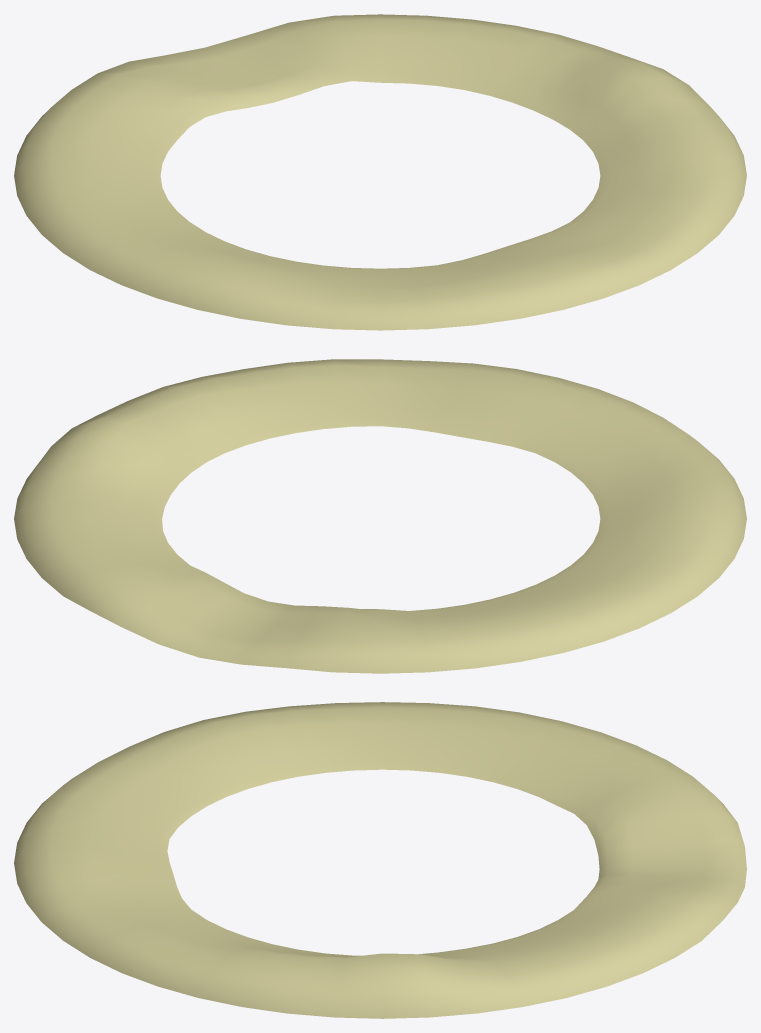
File: landscape.gltf
The picture shows the model from 3 angles, top to bottom: view 1: azimuth 30°, elevation 25°; view 2: azimuth 150°, elevation 25°; view 3: azimuth 270°, elevation 25°; orthographic projection.
Bounding box in the file's own units: 29.8 × 1.79 × 29.63.
